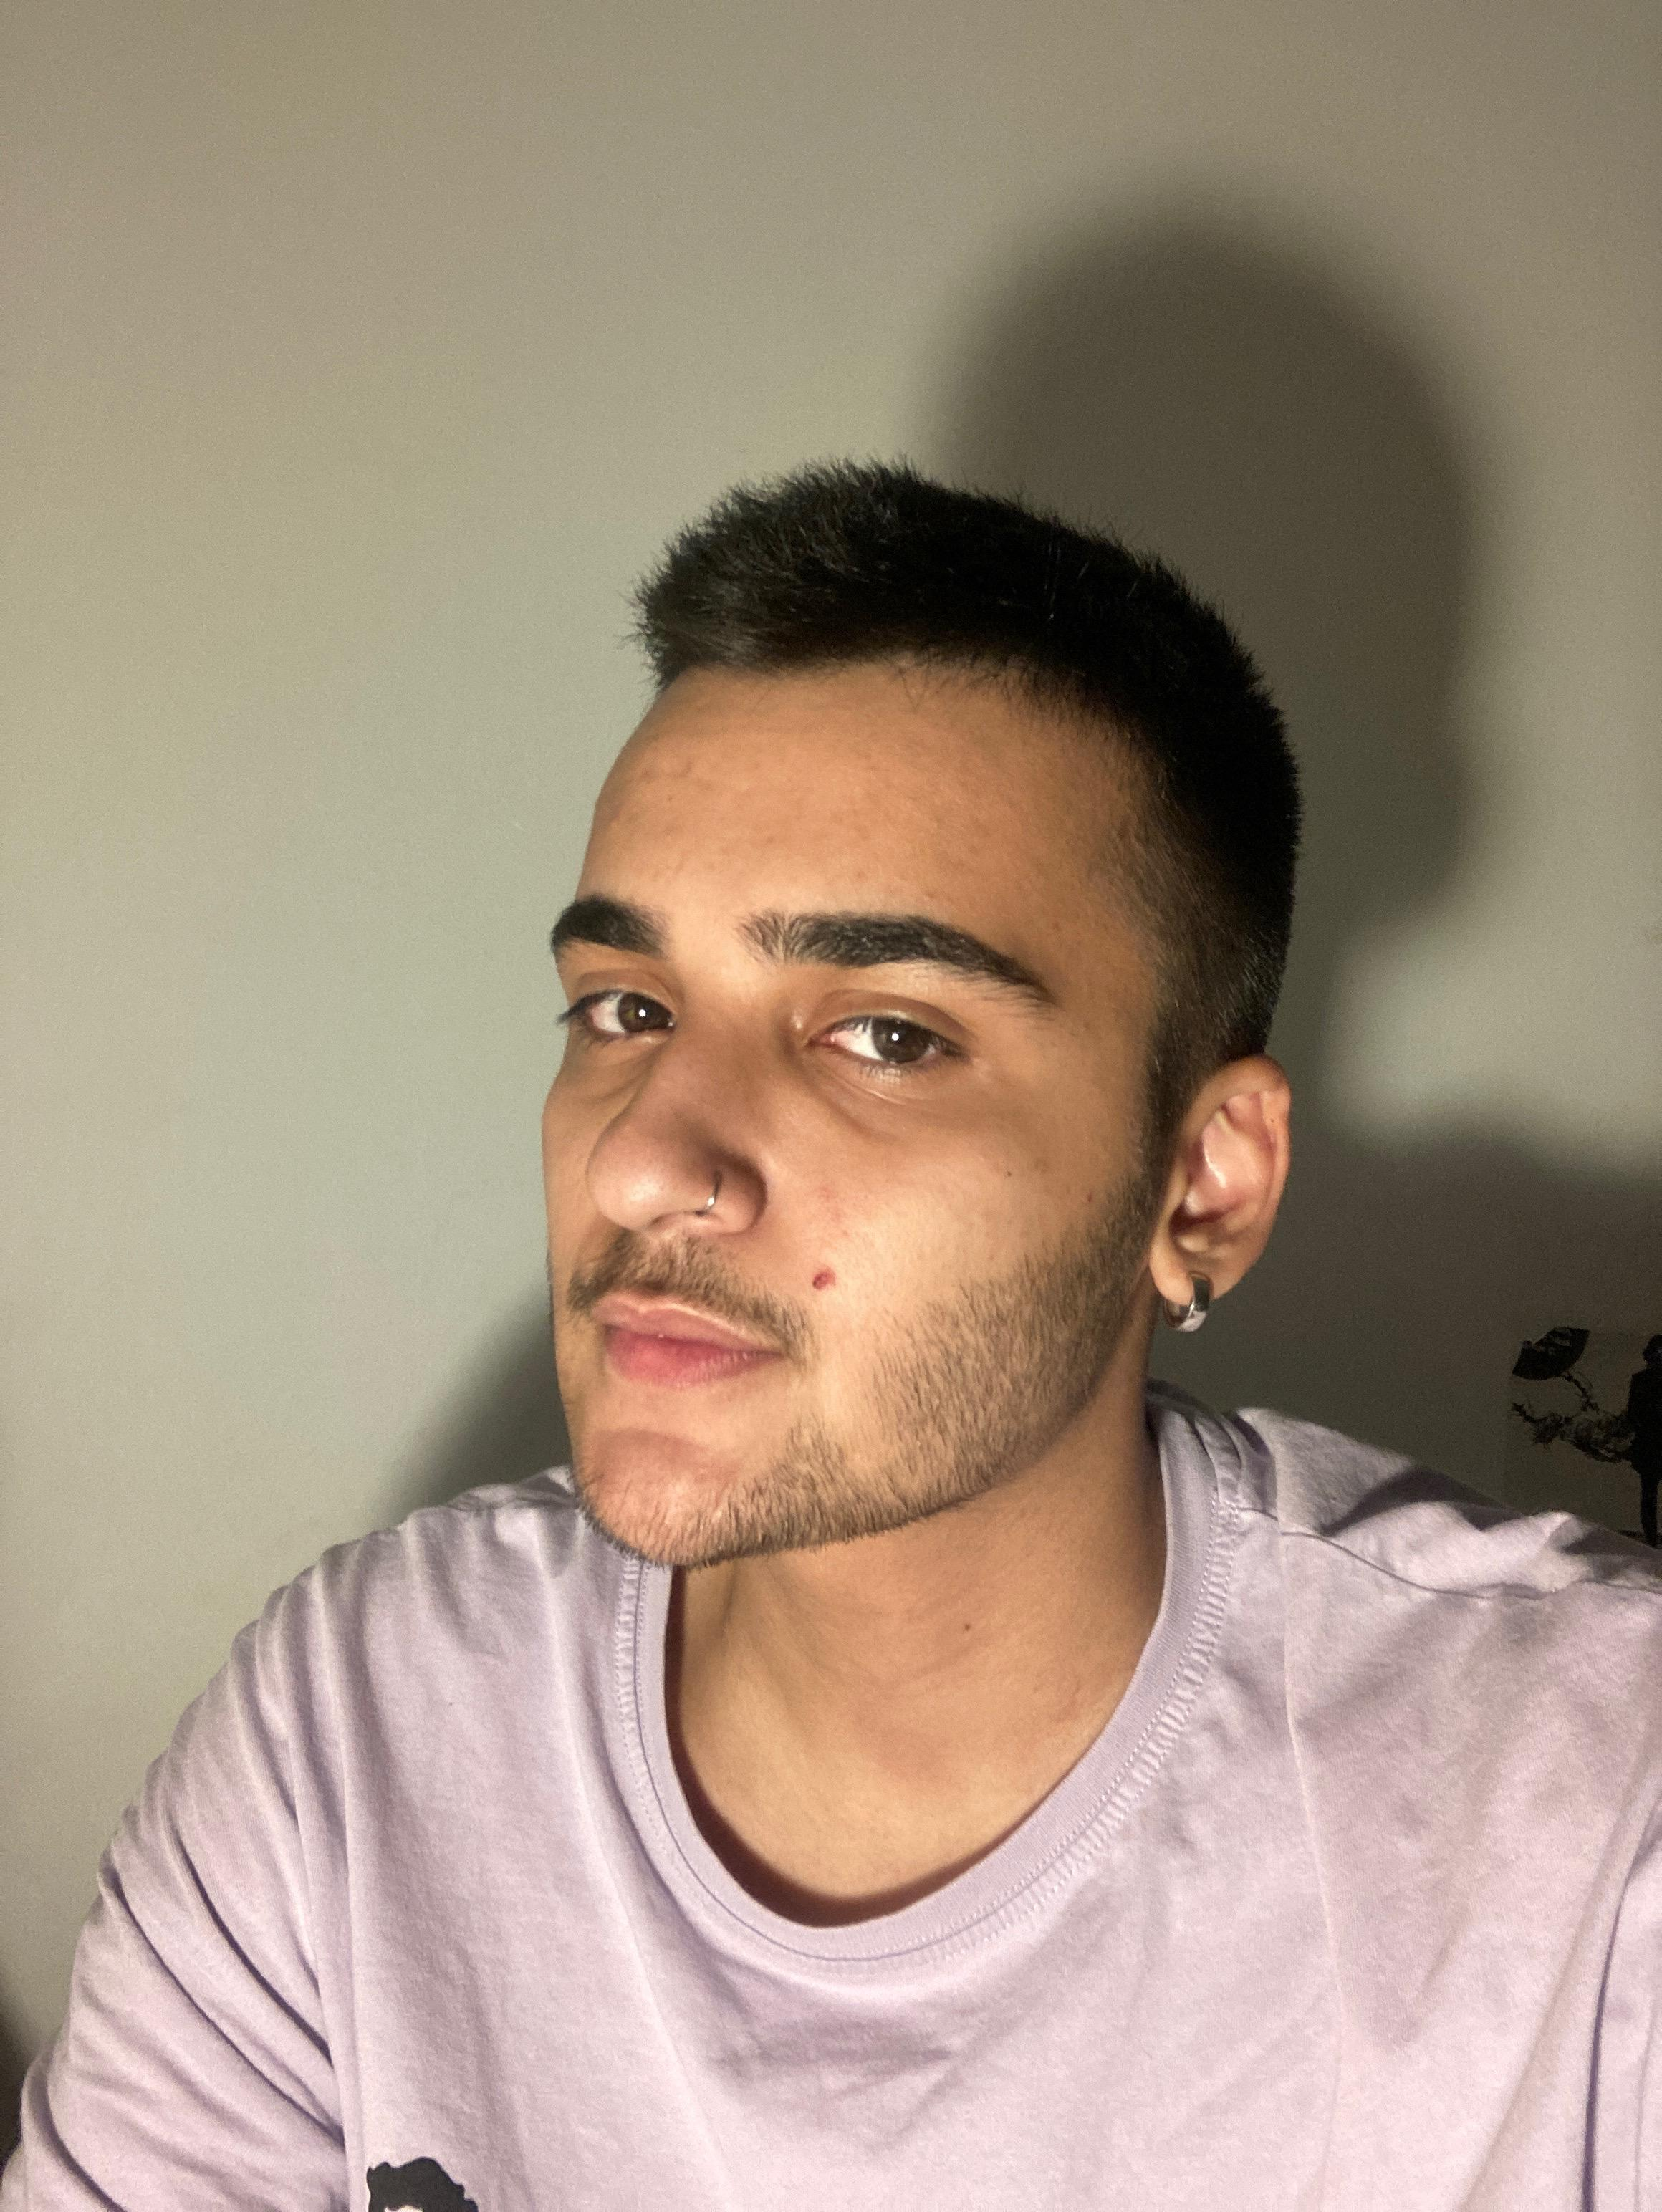Acne: (808, 1264, 857, 1306), (630, 766, 662, 793), (1079, 1177, 1105, 1205), (848, 862, 871, 887), (922, 889, 939, 911)
Englarged-Pores: (864, 1210, 936, 1306), (601, 1144, 669, 1210)
